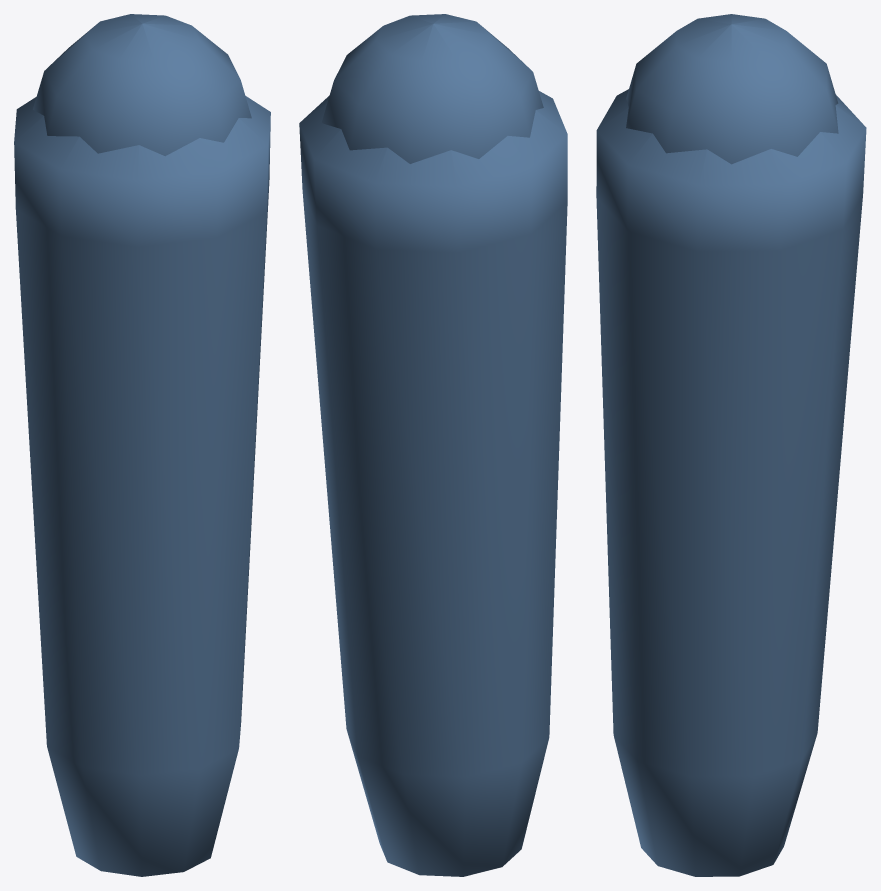
File: thigh_R.obj
3 views of the same model, side by side, from view 1: azimuth 30°, elevation 25°; view 2: azimuth 150°, elevation 25°; view 3: azimuth 270°, elevation 25° (orthographic).
Visible parts, largest first — view 1: thigh_R; view 2: thigh_R; view 3: thigh_R.
Boxes of the visible parts, left/top/right/bottom form: thigh_R: left=14, top=14, right=270, bottom=876; thigh_R: left=299, top=14, right=567, bottom=876; thigh_R: left=596, top=14, right=866, bottom=876.
Size of the model in its own units: 0.1421 by 0.5044 by 0.1461.
